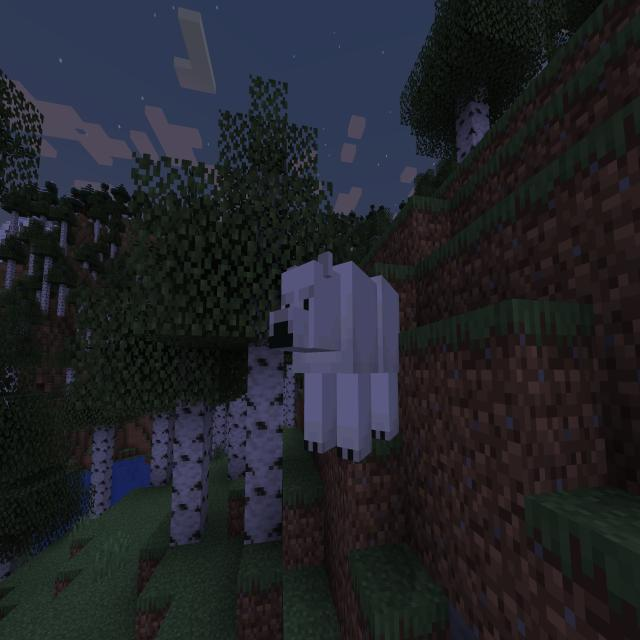Polar Bear: (268, 247, 402, 465)
